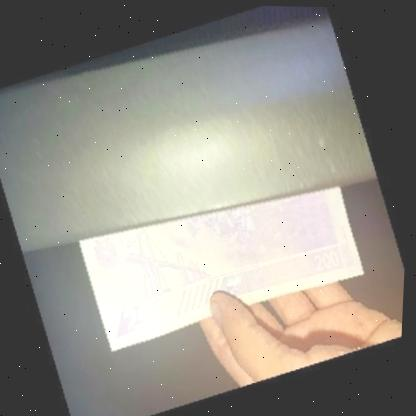two_hundred-back-vef: (73, 176, 377, 358)
